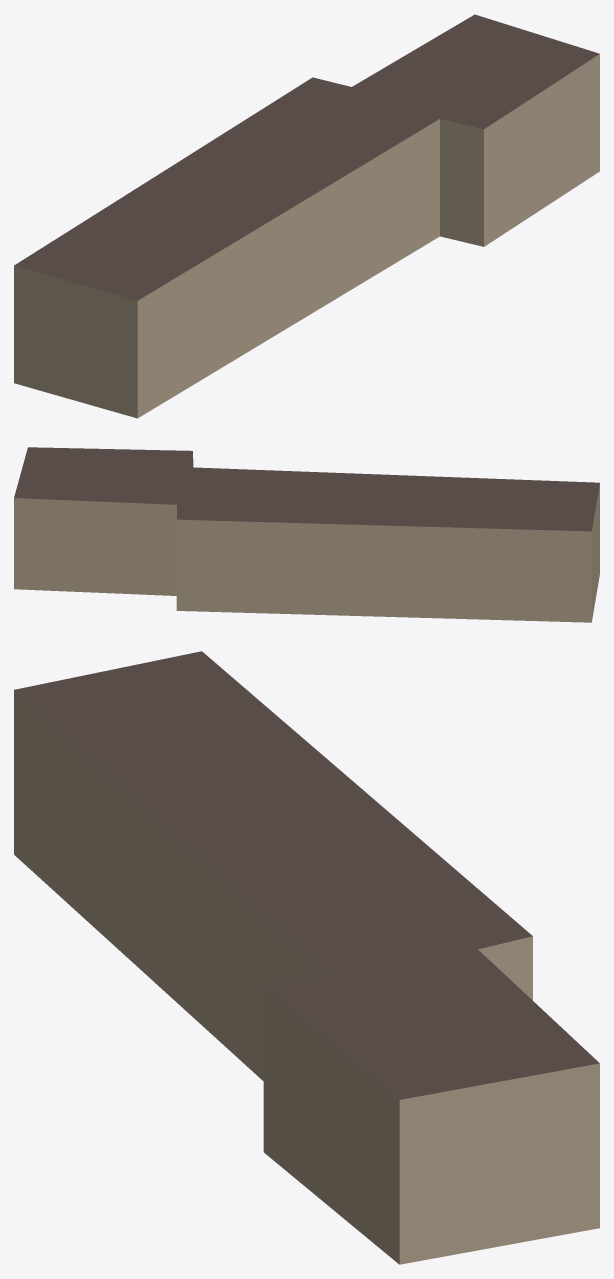
3 views of the same model, one above another, from view 1: azimuth 30°, elevation 25°; view 2: azimuth 150°, elevation 25°; view 3: azimuth 270°, elevation 25° (orthographic). The views are drawn at different scales.
Visible parts, largest first — view 1: HP-w1516163128; view 2: HP-w1516163128; view 3: HP-w1516163128.
Boxes of the visible parts, left/top/right/bottom form: HP-w1516163128: left=14, top=14, right=599, bottom=418; HP-w1516163128: left=14, top=447, right=599, bottom=622; HP-w1516163128: left=14, top=651, right=599, bottom=1264.
Bounding box in the file's own units: 52.56 × 9 × 29.
